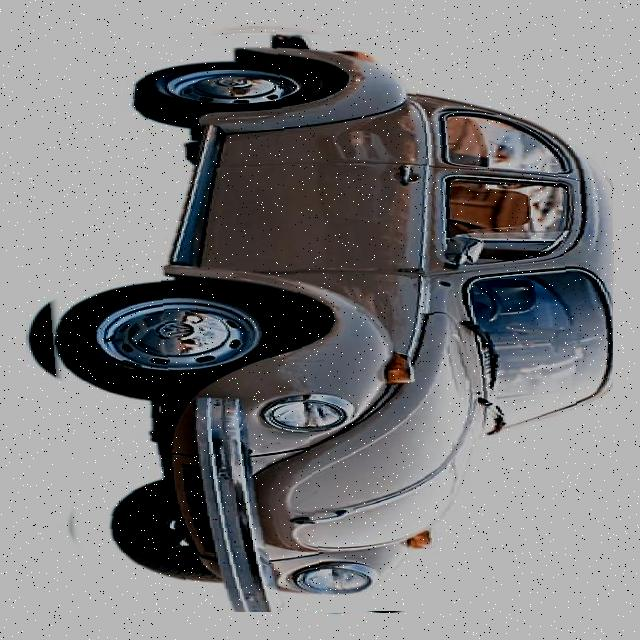car: (28, 28, 614, 614)
